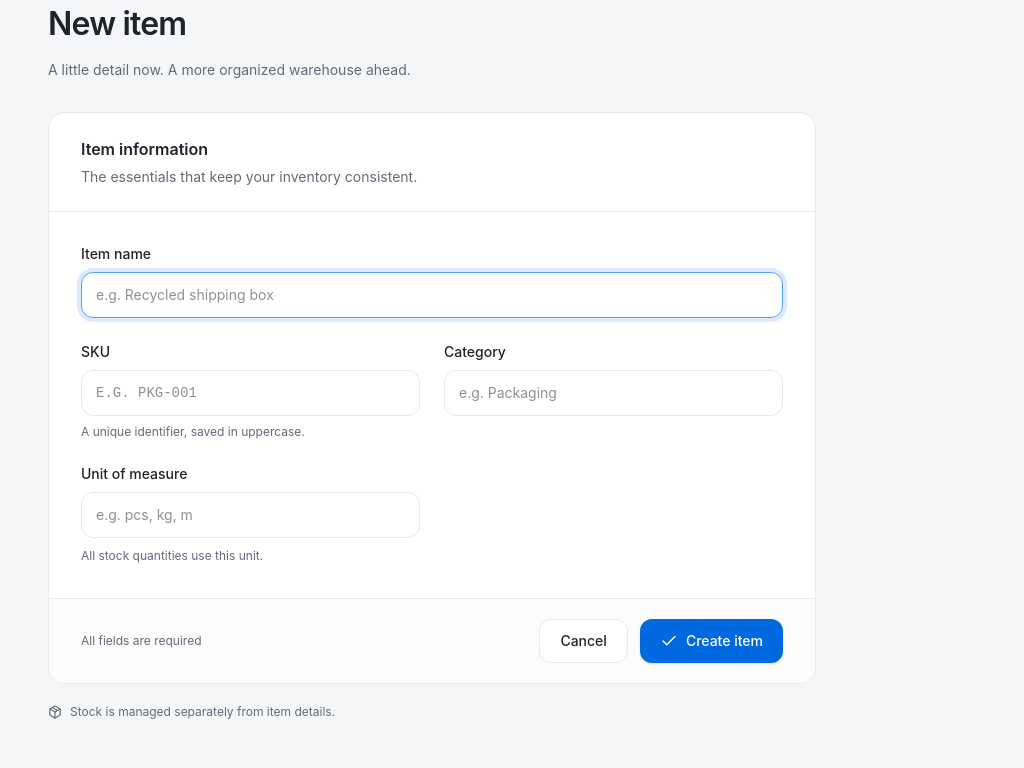
warehouse interactions › validates required fields and maps duplicate SKU errors to the field
(page scrolled)
Click the button "Create item" at coordinates (711, 640), box top-left (640, 618), bottom-right (783, 662)
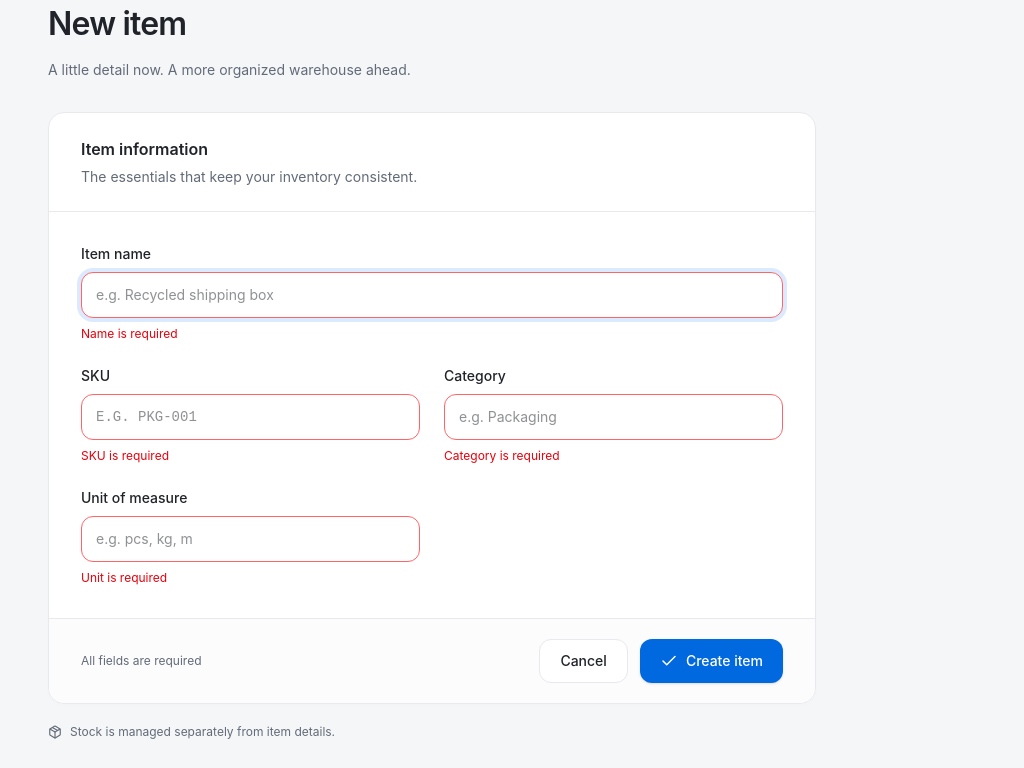
Now the text "Name is required" is shown, box top-left (81, 326), bottom-right (178, 340)
Type "New item" into the field labelled "Item name" at coordinates (432, 294), box top-left (81, 272), bottom-right (783, 318)
(page scrolled)
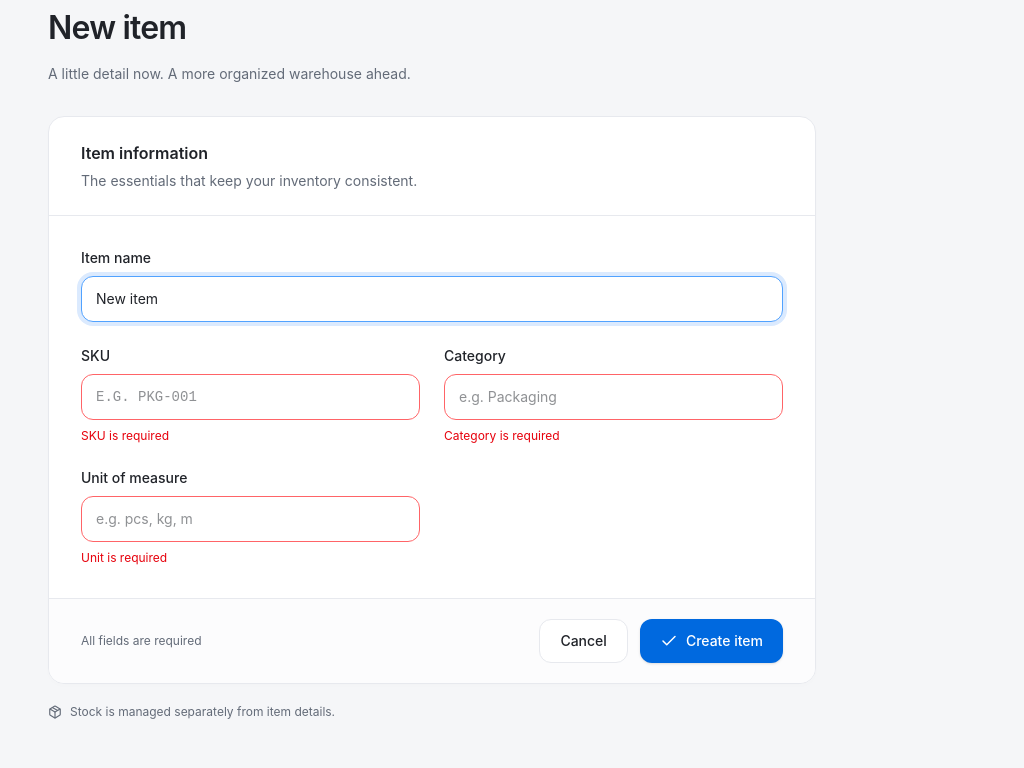
Type "PKG-001" into the field labelled "SKU" at coordinates (250, 396), box top-left (81, 374), bottom-right (420, 420)
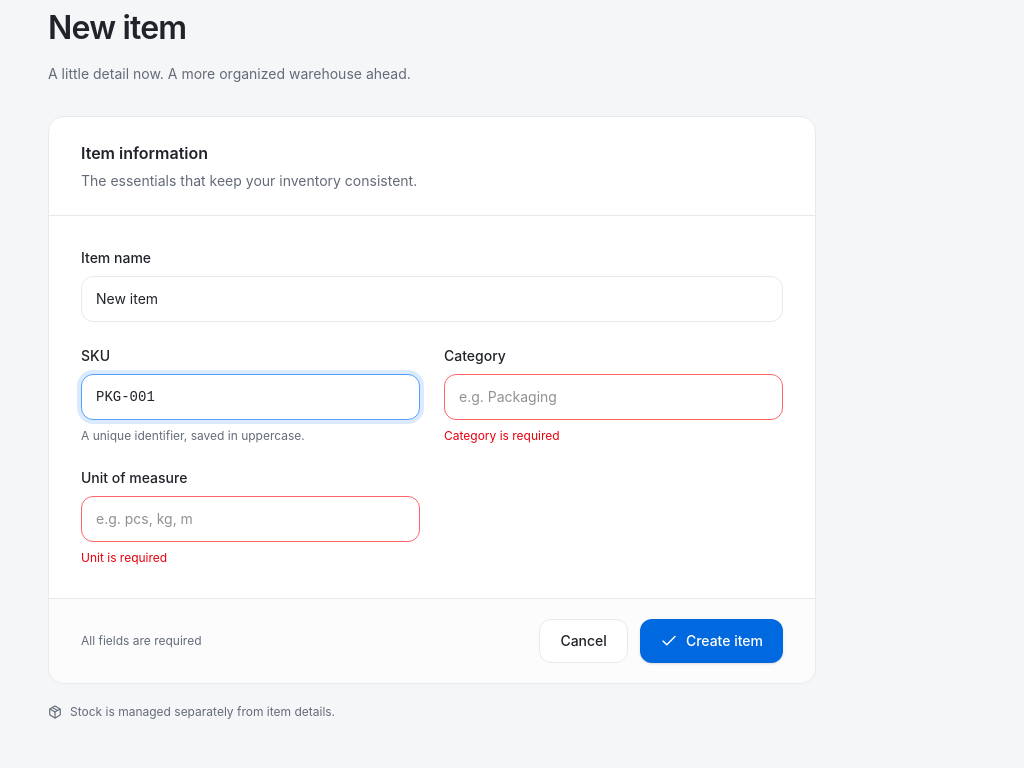
Type "Packaging" into the field labelled "Category" at coordinates (614, 396), box top-left (444, 374), bottom-right (783, 420)
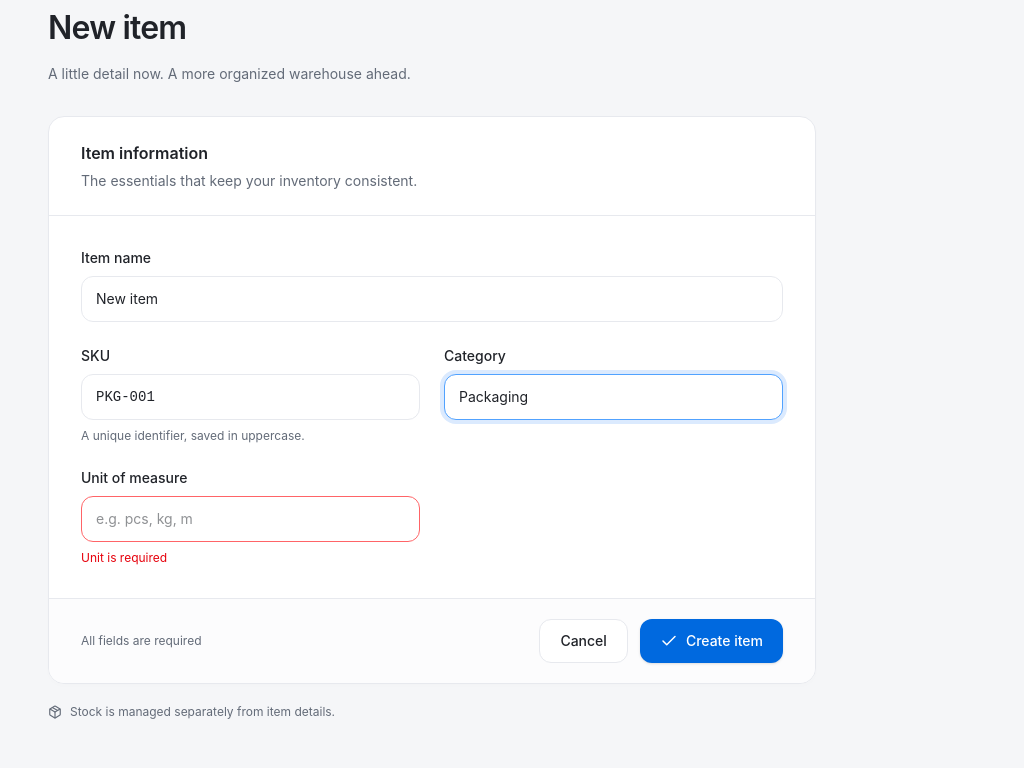
Type "pcs" into the field labelled "Unit of measure" at coordinates (250, 518), box top-left (81, 496), bottom-right (420, 542)
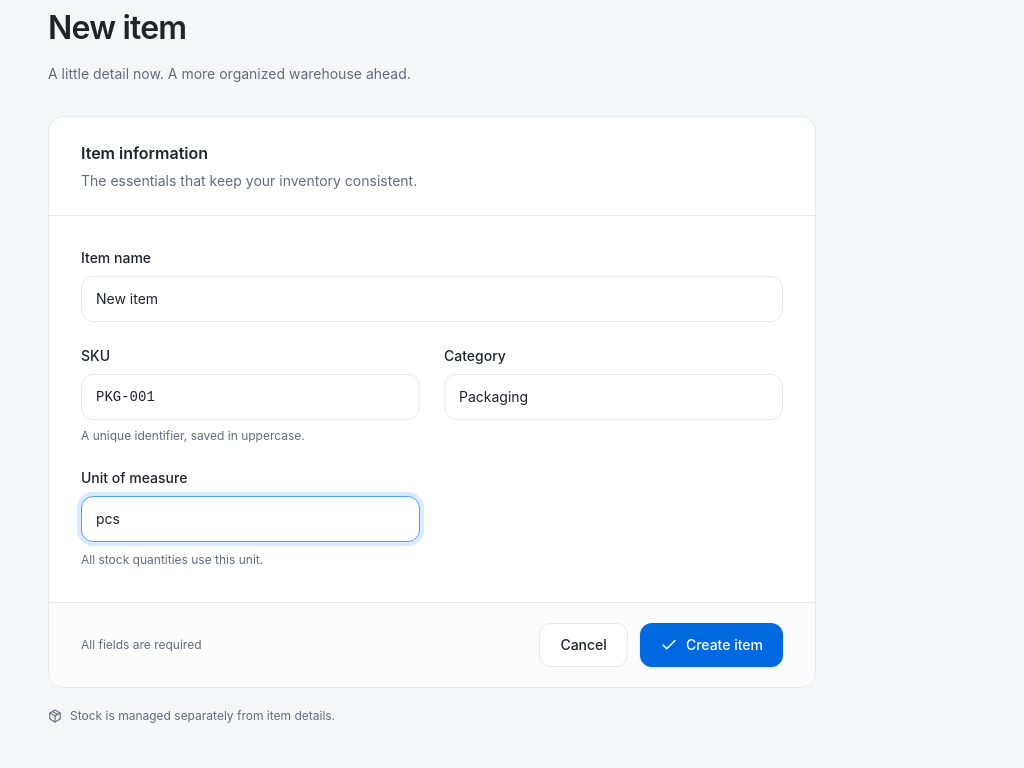
Click the button "Create item" at coordinates (711, 644), box top-left (640, 622), bottom-right (783, 666)
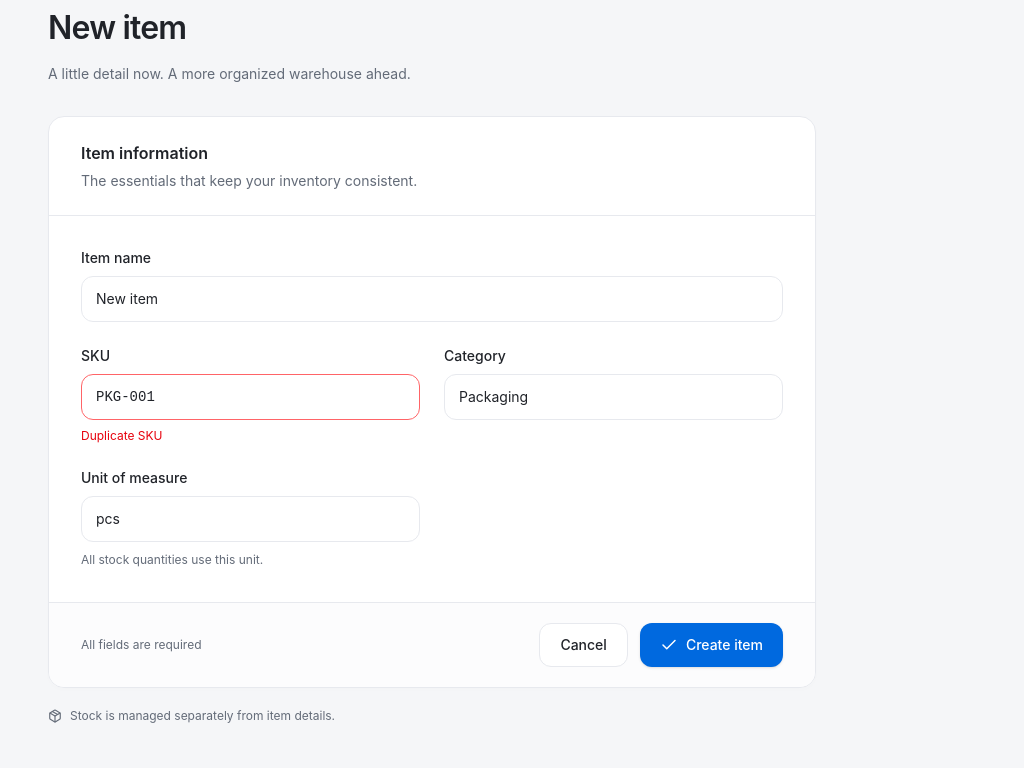
Now the text "Duplicate SKU" is shown, box top-left (81, 428), bottom-right (162, 442)
